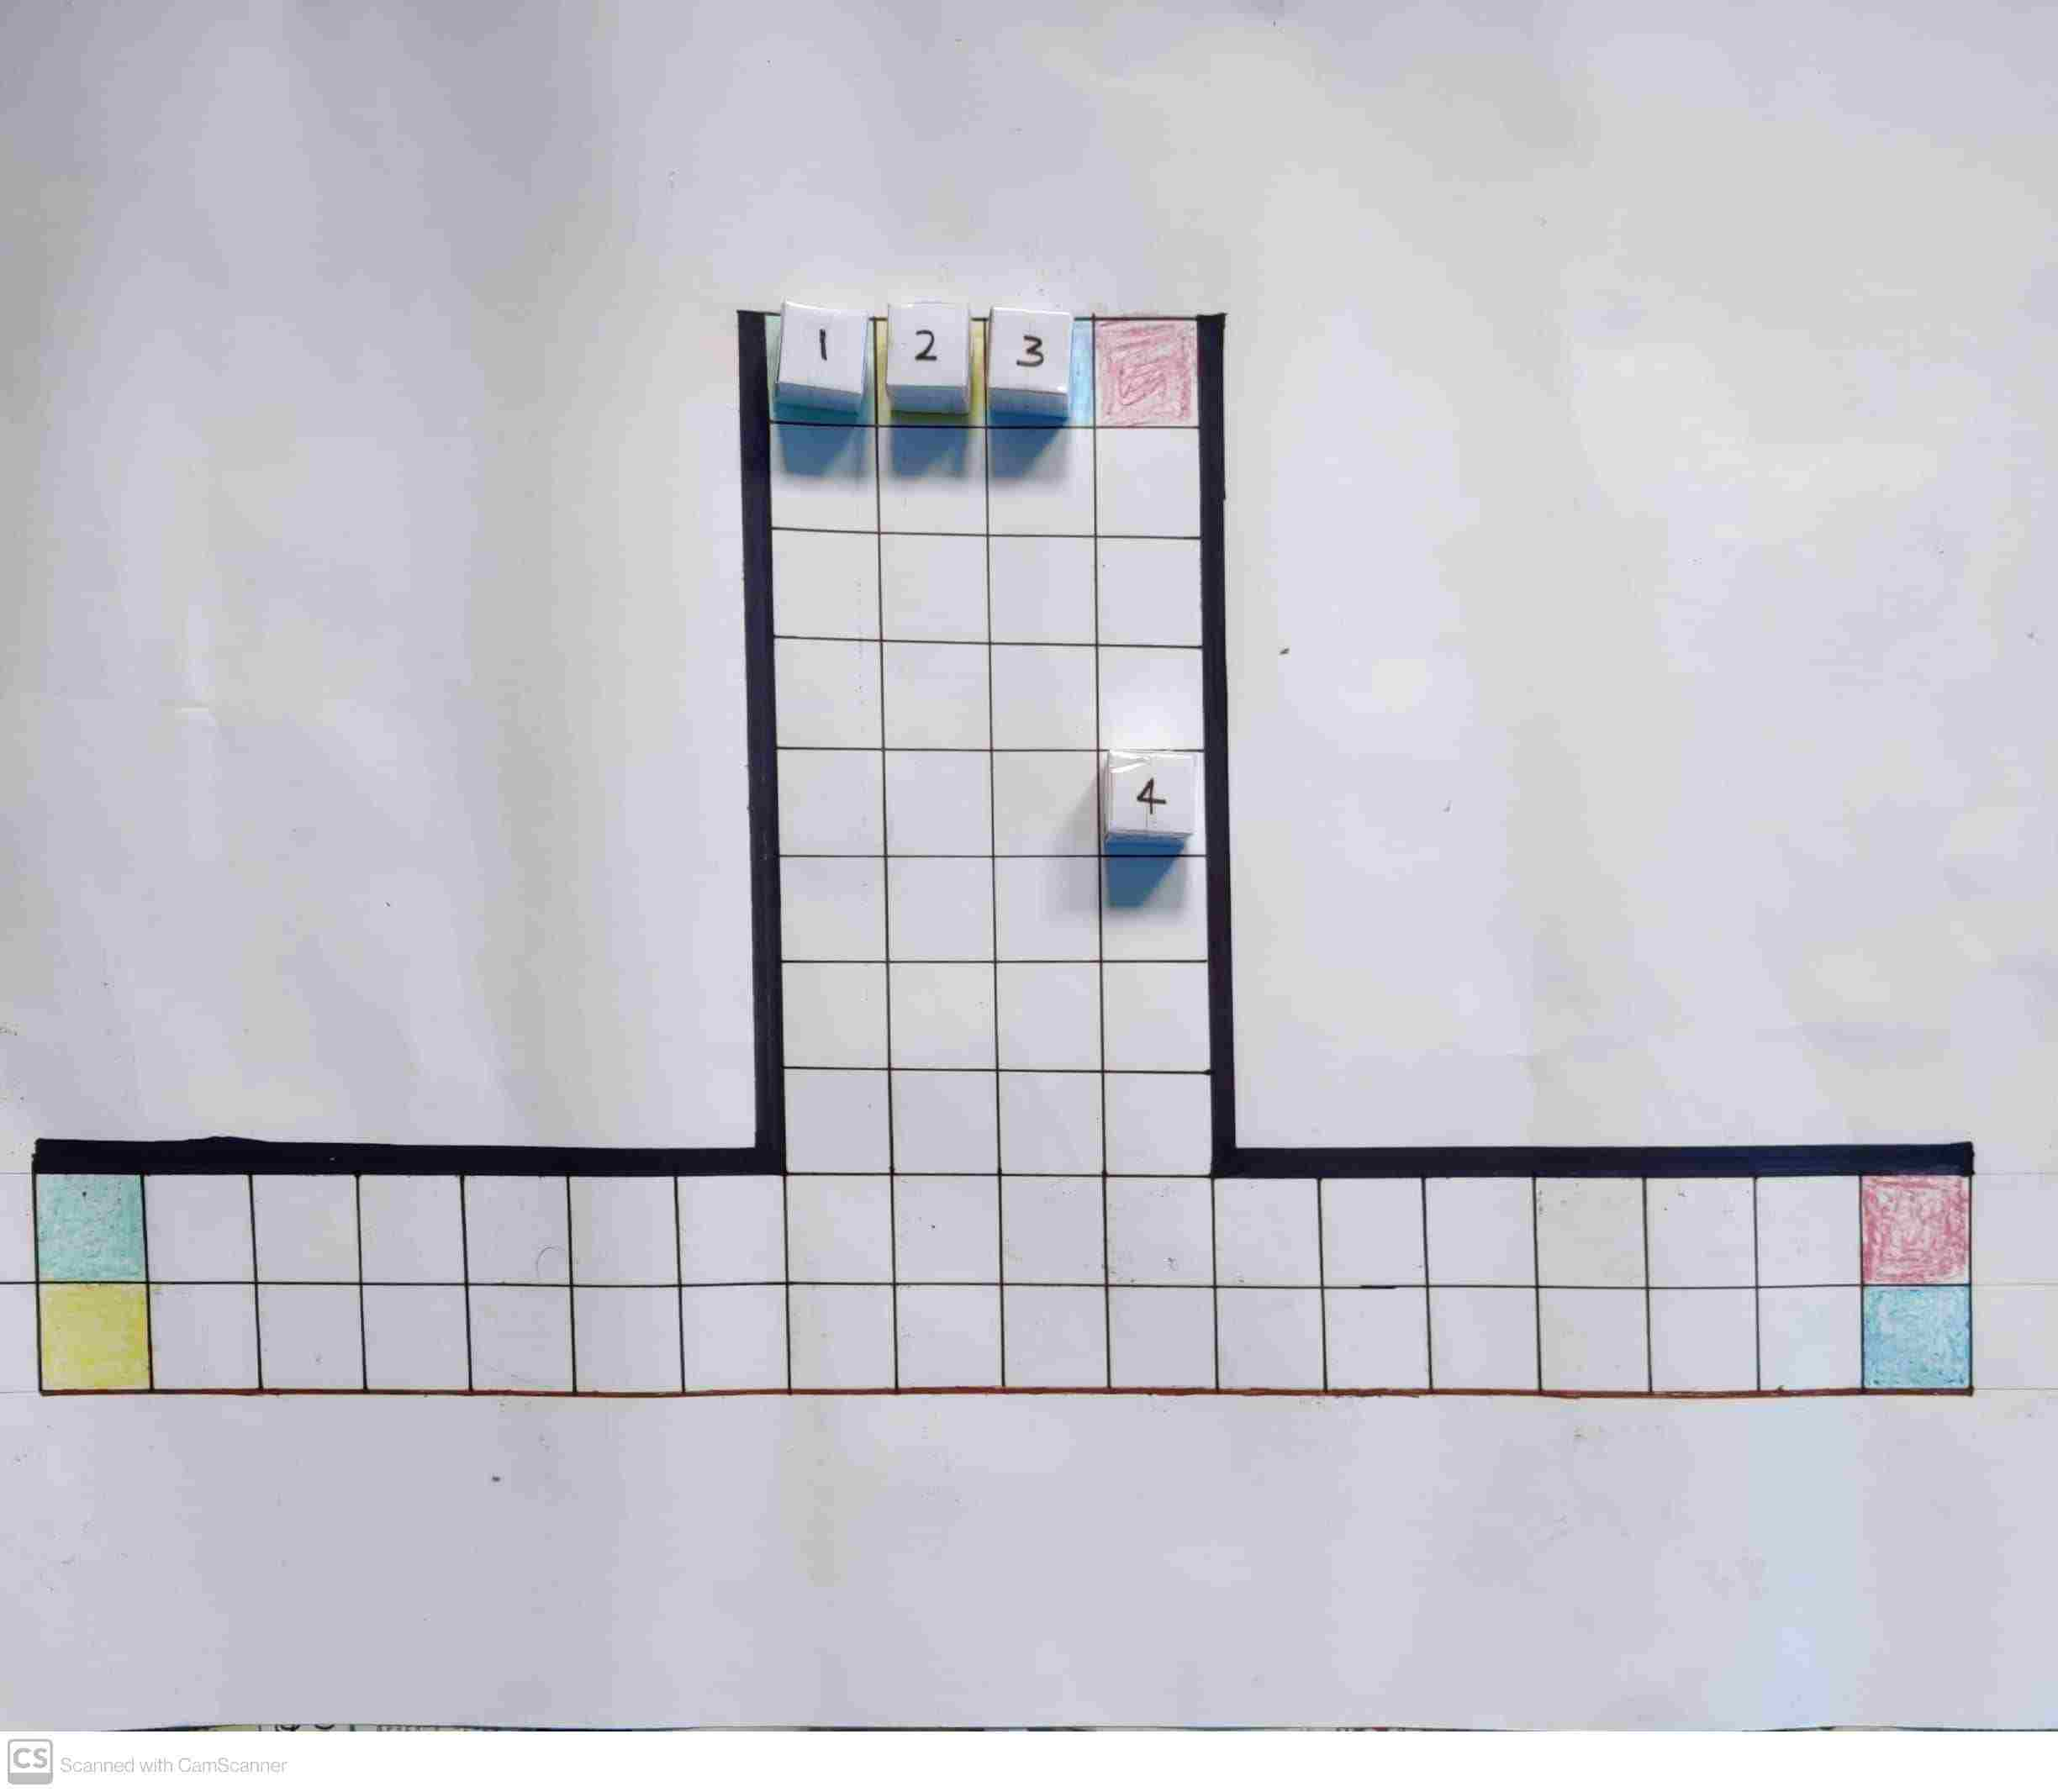arena: (39, 313, 1967, 1388)
bot: (1109, 756, 1208, 838), (780, 310, 865, 394), (989, 308, 1076, 388), (886, 304, 971, 385)
